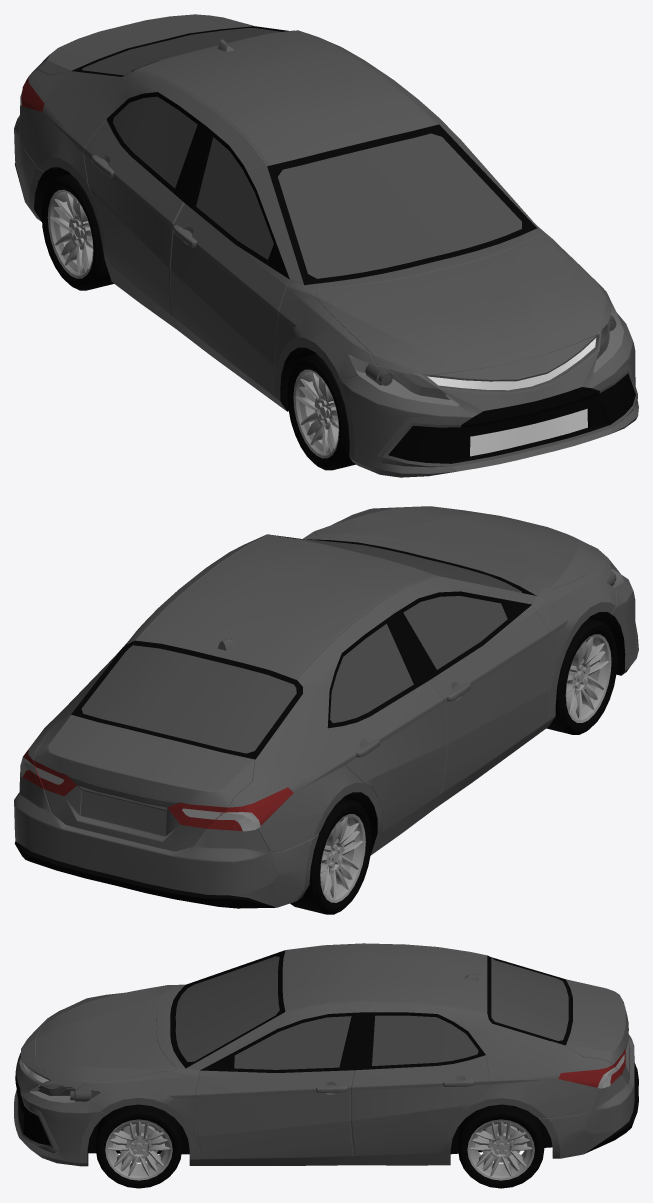
Rendered from CAMRY.fbx.
3 renders of one model, top to bottom at view 1: azimuth 30°, elevation 25°; view 2: azimuth 150°, elevation 25°; view 3: azimuth 270°, elevation 25°, orthographic. The views are drawn at different scales.
Visible parts, largest first — view 1: #GuideMesh.001, #GuideMesh.002, #GuideMesh.005, Cylinder.003, Cylinder.002, Plane.001, #GuideMesh.004, #GuideMesh.003, Plane.002, #GuideMesh.006; view 2: #GuideMesh.001, #GuideMesh.002, Cylinder.003, Cylinder.002, #GuideMesh.009, #GuideMesh.008, #GuideMesh.006; view 3: #GuideMesh.001, #GuideMesh.002, Cylinder.001, Cylinder, #GuideMesh.005, #GuideMesh.009, Plane.001, #GuideMesh.006, Plane.002, #GuideMesh.008, #GuideMesh.007, #GuideMesh.003.
Part boxes in pixels (x1,y1,x2,y2): #GuideMesh.001: (14, 14, 638, 477); #GuideMesh.002: (72, 26, 536, 284); #GuideMesh.005: (383, 370, 637, 471); Cylinder.003: (41, 174, 113, 290); Cylinder.002: (287, 354, 355, 470); Plane.001: (348, 293, 624, 405); #GuideMesh.004: (421, 330, 601, 393); #GuideMesh.003: (348, 293, 624, 405); Plane.002: (365, 315, 616, 399); #GuideMesh.006: (34, 167, 429, 411); #GuideMesh.001: (14, 506, 638, 907); #GuideMesh.002: (71, 534, 536, 759); Cylinder.003: (290, 798, 371, 914); Cylinder.002: (546, 618, 617, 734); #GuideMesh.009: (20, 749, 293, 831); #GuideMesh.008: (14, 841, 275, 908); #GuideMesh.006: (64, 612, 625, 904); #GuideMesh.001: (16, 943, 634, 1166); #GuideMesh.002: (170, 950, 572, 1072); Cylinder.001: (458, 1104, 544, 1188); Cylinder: (96, 1104, 182, 1188); #GuideMesh.005: (14, 1071, 53, 1148); #GuideMesh.009: (558, 1050, 625, 1088); Plane.001: (30, 1081, 101, 1102); #GuideMesh.006: (87, 1020, 621, 1165); Plane.002: (38, 1085, 92, 1101); #GuideMesh.008: (584, 1063, 638, 1153); #GuideMesh.007: (316, 1079, 474, 1093); #GuideMesh.003: (30, 1081, 101, 1102).
Size of the model in its own units: 186 by 146 by 485.
